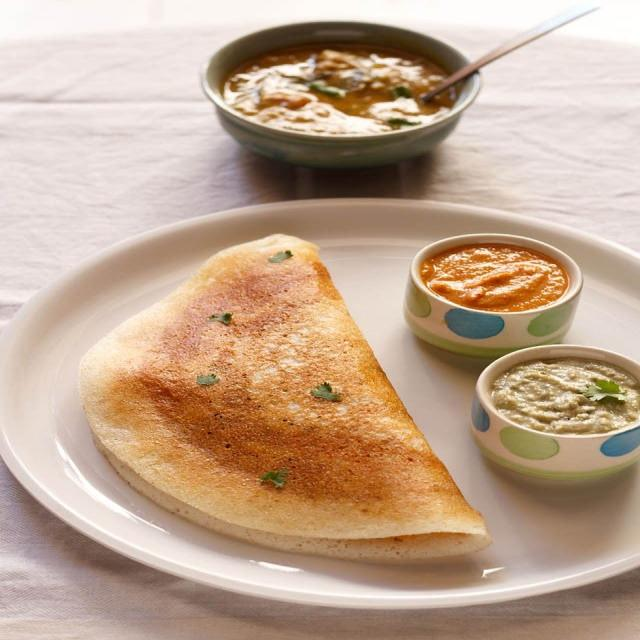plain dosa: (87, 223, 496, 561)
